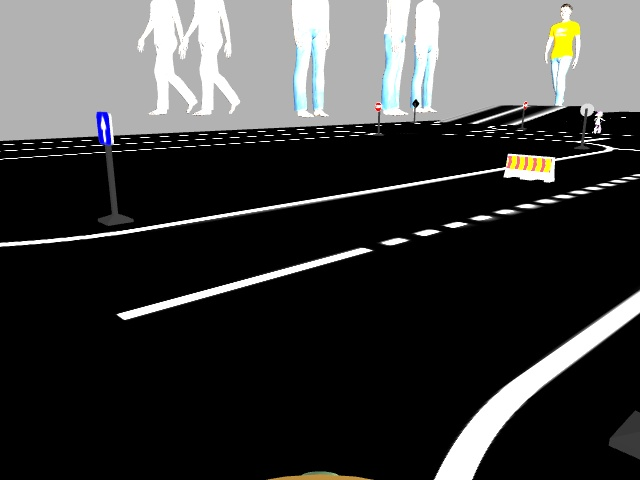ClosedRoadStand: (507, 153, 553, 180)
OneWay: (94, 111, 112, 144)
